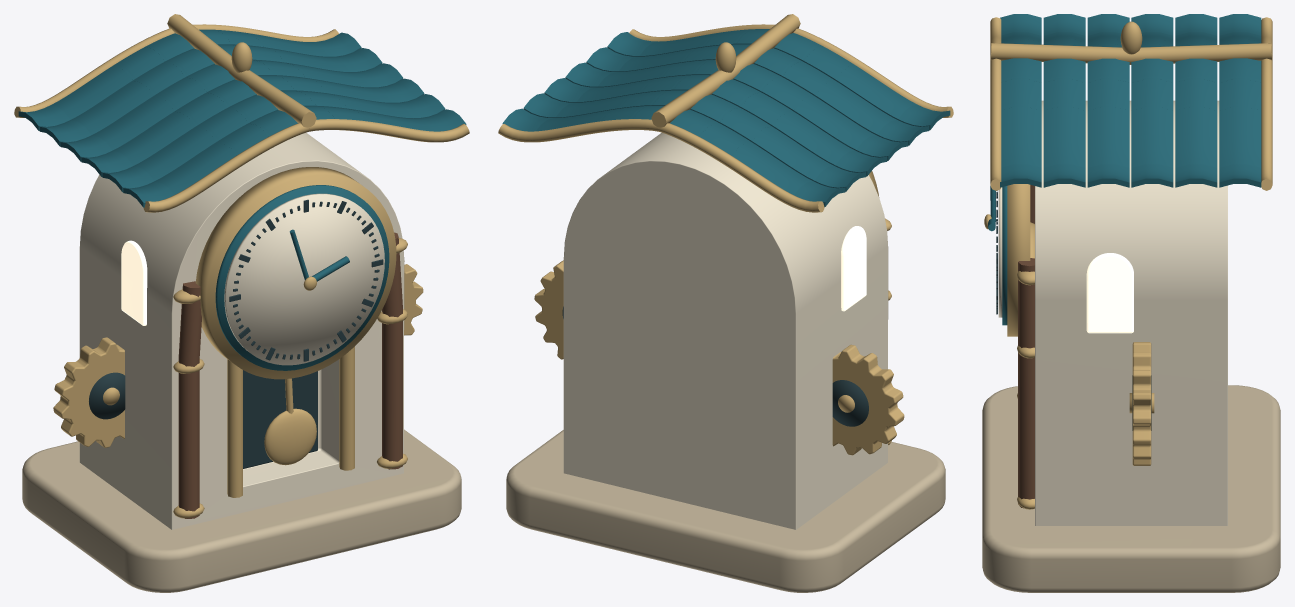
The model's file is clock_pavilion_atelier.glb.
3 renders of one model, left to right at view 1: azimuth 30°, elevation 25°; view 2: azimuth 150°, elevation 25°; view 3: azimuth 270°, elevation 25°, orthographic. The views are drawn at different scales.
Visible parts, largest first — view 1: clock_pavilion_atelier__Painted_clock_pavilion_atelier_Glaze, clock_pavilion_atelier__TaggedPainted_clock_pavilion_atelier, clock_pavilion_atelier__Painted_clock_pavilion_atelier_Metal, clock_pavilion_atelier__Painted_clock_pavilion_atelier_Glow; view 2: clock_pavilion_atelier__Painted_clock_pavilion_atelier_Glaze, clock_pavilion_atelier__TaggedPainted_clock_pavilion_atelier, clock_pavilion_atelier__Painted_clock_pavilion_atelier_Metal, clock_pavilion_atelier__Painted_clock_pavilion_atelier_Glow; view 3: clock_pavilion_atelier__Painted_clock_pavilion_atelier_Glaze, clock_pavilion_atelier__TaggedPainted_clock_pavilion_atelier, clock_pavilion_atelier__Painted_clock_pavilion_atelier_Metal, clock_pavilion_atelier__Painted_clock_pavilion_atelier_Glow.
Part boxes in pixels (left/top/right/bottom): clock_pavilion_atelier__Painted_clock_pavilion_atelier_Glaze: left=18, top=29, right=466, bottom=529; clock_pavilion_atelier__TaggedPainted_clock_pavilion_atelier: left=22, top=199, right=461, bottom=592; clock_pavilion_atelier__Painted_clock_pavilion_atelier_Metal: left=14, top=14, right=469, bottom=518; clock_pavilion_atelier__Painted_clock_pavilion_atelier_Glow: left=121, top=240, right=147, bottom=325; clock_pavilion_atelier__Painted_clock_pavilion_atelier_Glaze: left=502, top=29, right=950, bottom=529; clock_pavilion_atelier__TaggedPainted_clock_pavilion_atelier: left=506, top=306, right=945, bottom=592; clock_pavilion_atelier__Painted_clock_pavilion_atelier_Metal: left=498, top=14, right=953, bottom=455; clock_pavilion_atelier__Painted_clock_pavilion_atelier_Glow: left=841, top=226, right=866, bottom=311; clock_pavilion_atelier__Painted_clock_pavilion_atelier_Glaze: left=988, top=14, right=1261, bottom=525; clock_pavilion_atelier__TaggedPainted_clock_pavilion_atelier: left=982, top=185, right=1280, bottom=592; clock_pavilion_atelier__Painted_clock_pavilion_atelier_Metal: left=984, top=17, right=1272, bottom=509; clock_pavilion_atelier__Painted_clock_pavilion_atelier_Glow: left=1086, top=253, right=1133, bottom=333.
Size of the model in its own units: 2.49 by 3.08 by 1.7.
